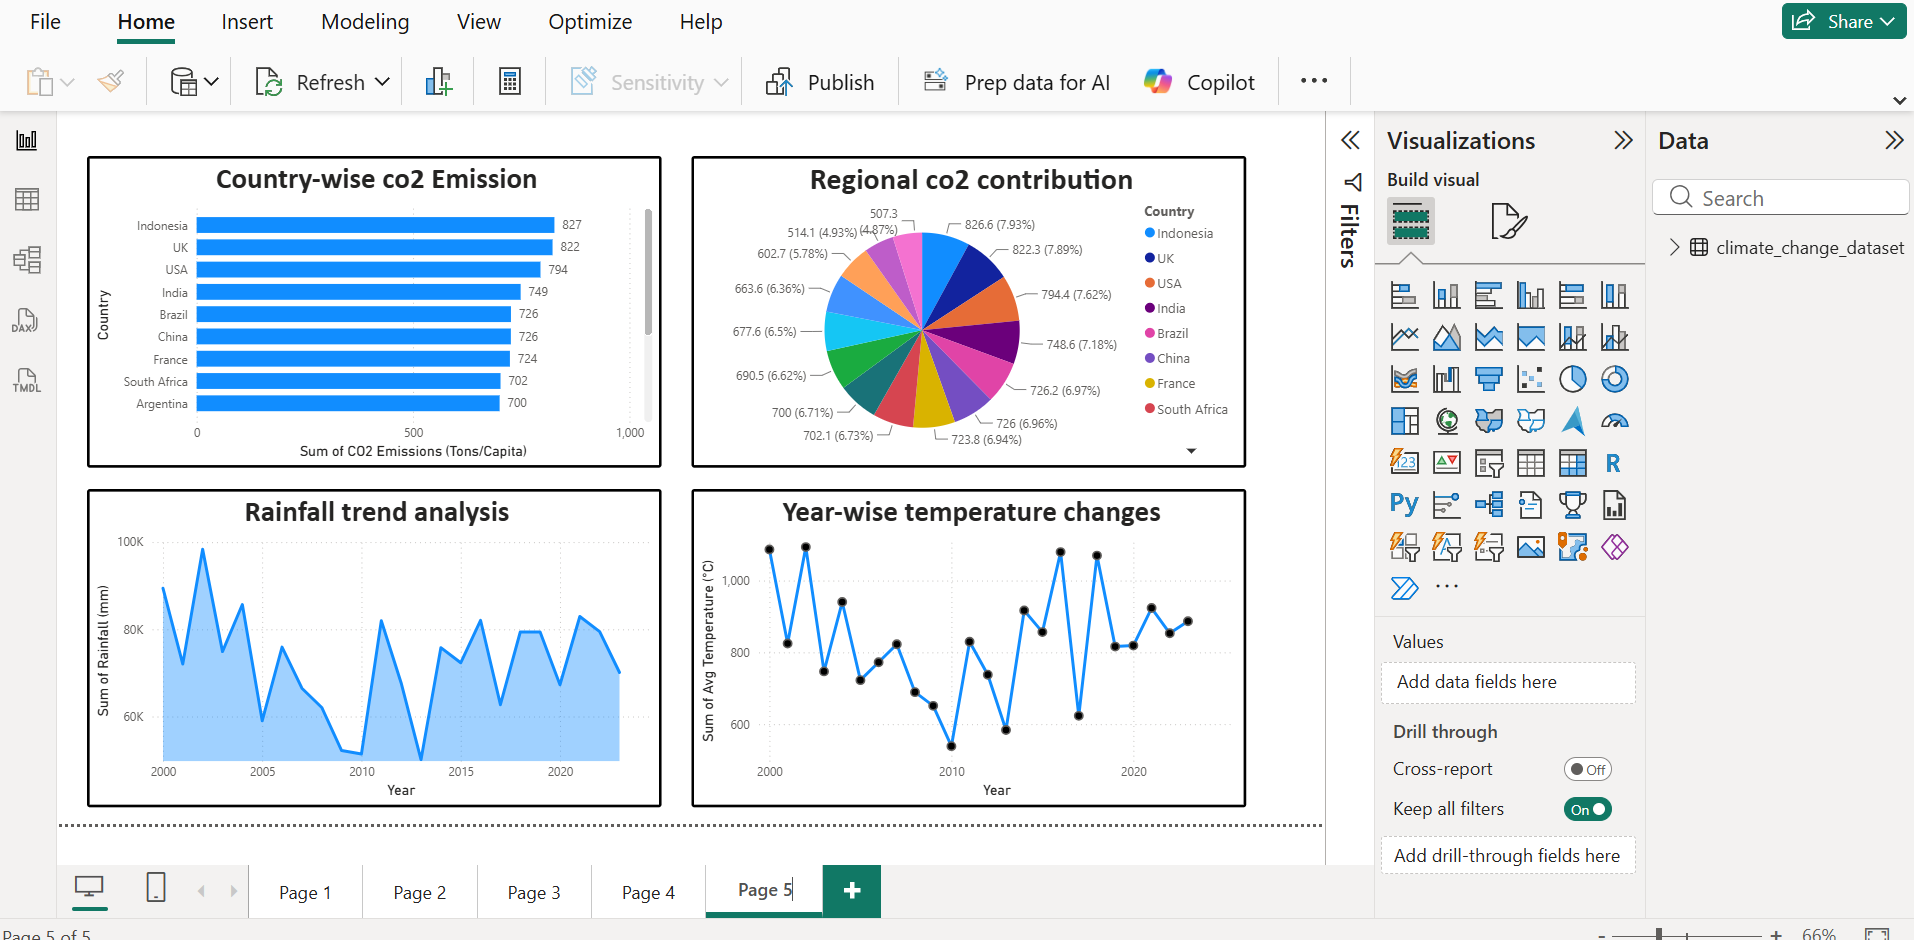

Layout of this report page (visuals, bound fields, positions):
{"tool":"powerbi","page":{"name":"Page 5","canvas":[1280,720],"ordinal":4},"visuals":[{"type":"clusteredBarChart","title":"Country-wise co2 Emission","fields":{"Category":["climate_change_dataset.Country"],"Y":["Sum(climate_change_dataset.CO2 Emissions (Tons/Capita))"]},"box":[30.3,45.4,579.9,315],"z":0},{"type":"pieChart","title":"Regional co2 contribution","fields":{"Y":["Sum(climate_change_dataset.CO2 Emissions (Tons/Capita))"],"Category":["climate_change_dataset.Country"]},"box":[640.5,45.4,560.3,315],"z":1000},{"type":"lineChart","title":"Year-wise temperature changes","fields":{"Category":["climate_change_dataset.Year"],"Y":["Sum(climate_change_dataset.Avg Temperature (°C))"]},"box":[640.5,381.6,560.3,321],"z":2000},{"type":"areaChart","title":"Rainfall trend analysis","fields":{"Category":["climate_change_dataset.Year"],"Y":["Sum(climate_change_dataset.Rainfall (mm))"]},"box":[30.3,381.6,579.9,321],"z":3000}]}

Visuals, with their boxes on the page's 1280x720 design canvas (x1, y1, x2, y2). These are canvas units, not pixel positions in the 1914x940 screenshot, which may show the page scaled, cropped or inside an application window:
"Country-wise co2 Emission" clusteredBarChart: 30/45/610/360
"Regional co2 contribution" pieChart: 640/45/1201/360
"Year-wise temperature changes" lineChart: 640/382/1201/703
"Rainfall trend analysis" areaChart: 30/382/610/703
